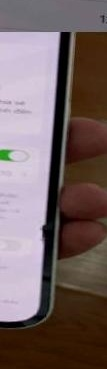screen_defect: (25, 218, 62, 256)
